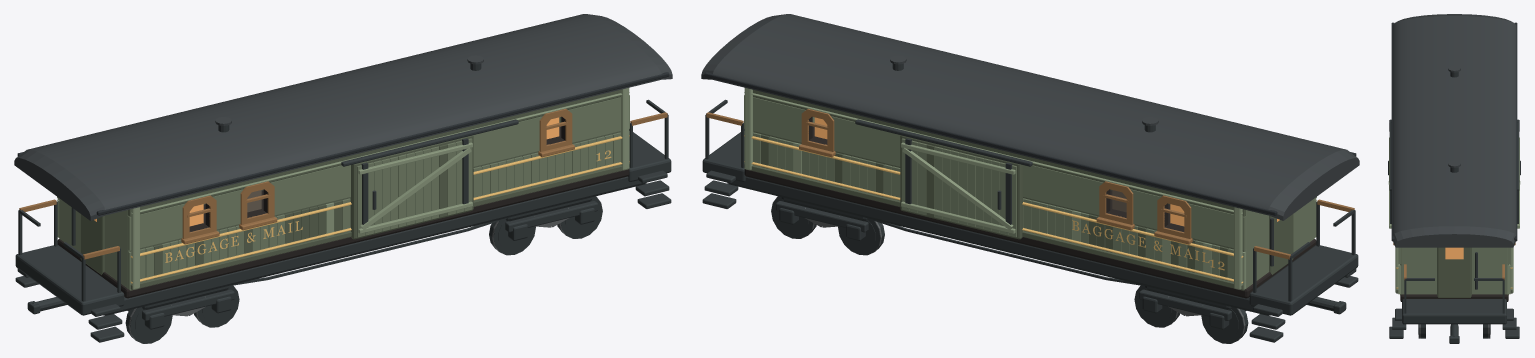
The model's file is baggage_mail_car.glb.
3 views of the same model, side by side, from view 1: azimuth 30°, elevation 25°; view 2: azimuth 150°, elevation 25°; view 3: azimuth 270°, elevation 25° (orthographic). The views are drawn at different scales.
Parts seen in each view (by area): view 1: No. 12 — Baggage & Mail; view 2: No. 12 — Baggage & Mail; view 3: No. 12 — Baggage & Mail.
Boxes of the visible parts, bbox=[...] form: No. 12 — Baggage & Mail: bbox=[14, 14, 672, 343]; No. 12 — Baggage & Mail: bbox=[701, 14, 1359, 343]; No. 12 — Baggage & Mail: bbox=[1388, 14, 1520, 343].
Size of the model in its own units: 12.54 by 3.51 by 2.97.
